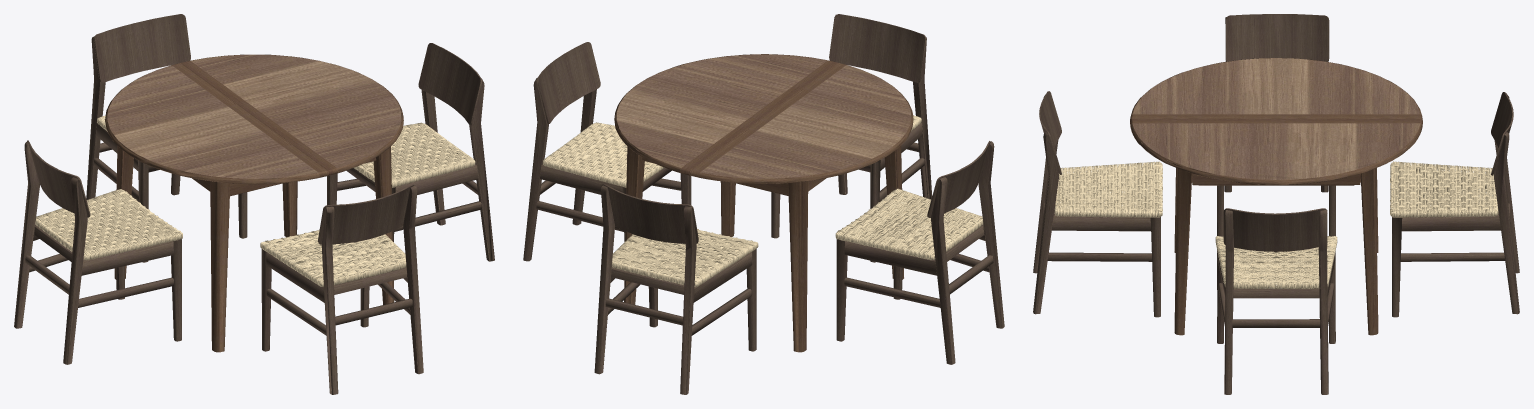
The model's file is skansnas_skansnas_sto_i_4_krzesa_09561633.glb.
The picture shows the model from 3 angles, left to right: view 1: azimuth 30°, elevation 25°; view 2: azimuth 150°, elevation 25°; view 3: azimuth 270°, elevation 25°; orthographic projection. The views are drawn at different scales.
Parts seen in each view (by area): view 1: skansnas_skansnas_sto_i_4_krzesa_09561633; view 2: skansnas_skansnas_sto_i_4_krzesa_09561633; view 3: skansnas_skansnas_sto_i_4_krzesa_09561633.
Boxes of the visible parts, x1=… form: skansnas_skansnas_sto_i_4_krzesa_09561633: x1=14, y1=14, x2=494, y2=394; skansnas_skansnas_sto_i_4_krzesa_09561633: x1=523, y1=14, x2=1004, y2=394; skansnas_skansnas_sto_i_4_krzesa_09561633: x1=1033, y1=14, x2=1519, y2=394.
Bounding box in the file's own units: 1.91 × 0.7804 × 1.91.
Materials: 4 (4 with a texture image).
